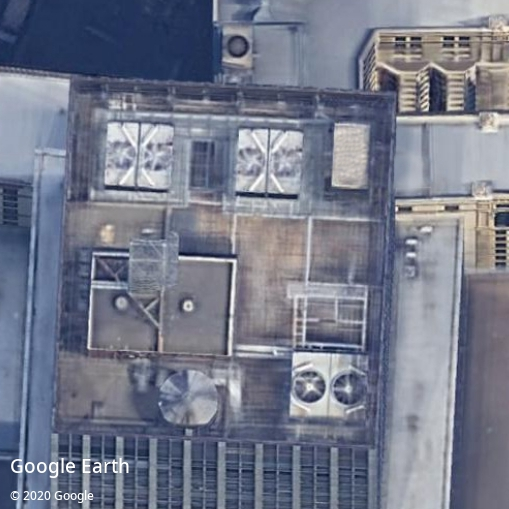Vent: (332, 372, 366, 406), (294, 370, 326, 404), (142, 142, 171, 171), (271, 148, 299, 177), (108, 141, 136, 169), (237, 148, 265, 175), (226, 36, 249, 58)
